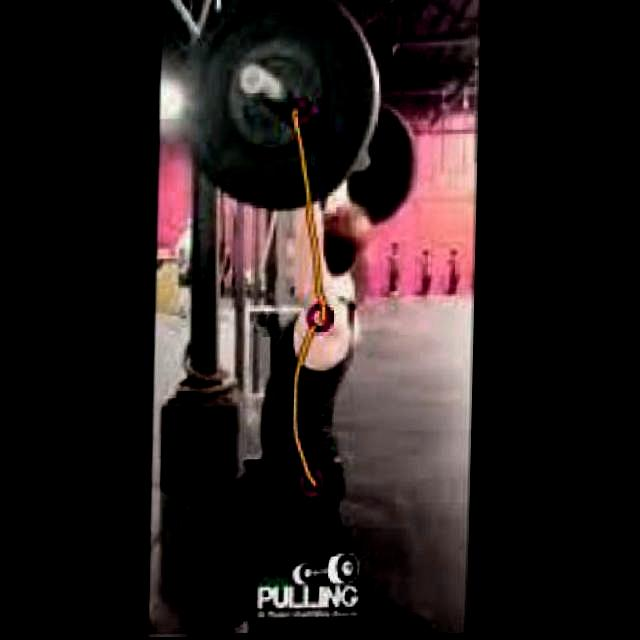barbell: (173, 1, 390, 216)
